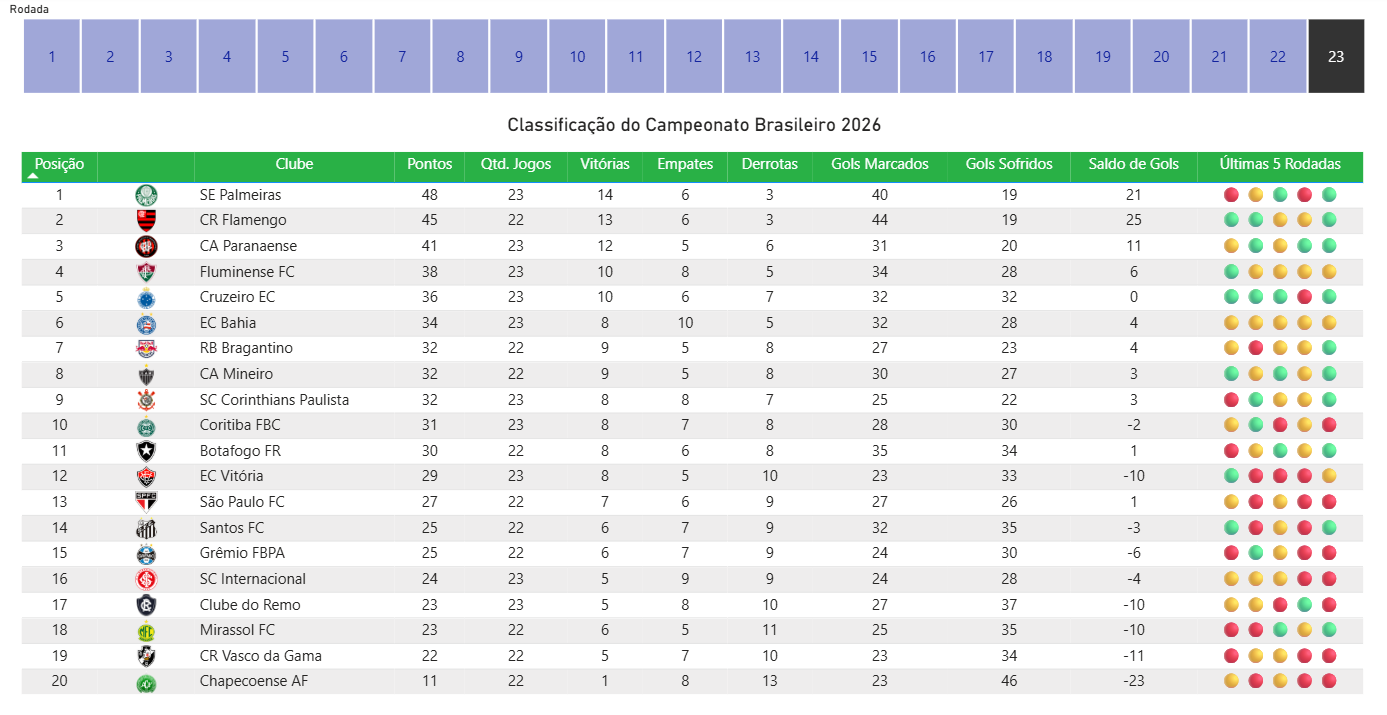

The dashboard page shown, as its layout file describes it:
{"tool":"powerbi","page":{"name":"Classificação","canvas":[1280,720],"ordinal":1},"visuals":[{"type":"slicer","fields":{"Values":["public tbl_standings.gameweek"]},"box":[15.8,0,1254,93.8],"z":0},{"type":"tableEx","title":"Classificação do Campeonato Brasileiro 2026","fields":{"Values":["public tbl_standings.position","public tbl_teams.team_crest","public tbl_teams.team_name","public tbl_standings.points","public tbl_standings.played_games","public tbl_standings.won","public tbl_standings.draw","public tbl_standings.lost","public tbl_standings.goals_for","public tbl_standings.goals_against","public tbl_standings.goal_difference","public tbl_standings.Form_Visual"]},"box":[34.1,105.1,1220.7,545.2],"z":1000}]}

Visuals, with their boxes on the page's 1280x720 design canvas (x1, y1, x2, y2). These are canvas units, not pixel positions in the 1387x715 screenshot, which may show the page scaled, cropped or inside an application window:
slicer - public tbl_standings.gameweek: box(16, 0, 1270, 94)
"Classificação do Campeonato Brasileiro 2026" tableEx: box(34, 105, 1255, 650)
